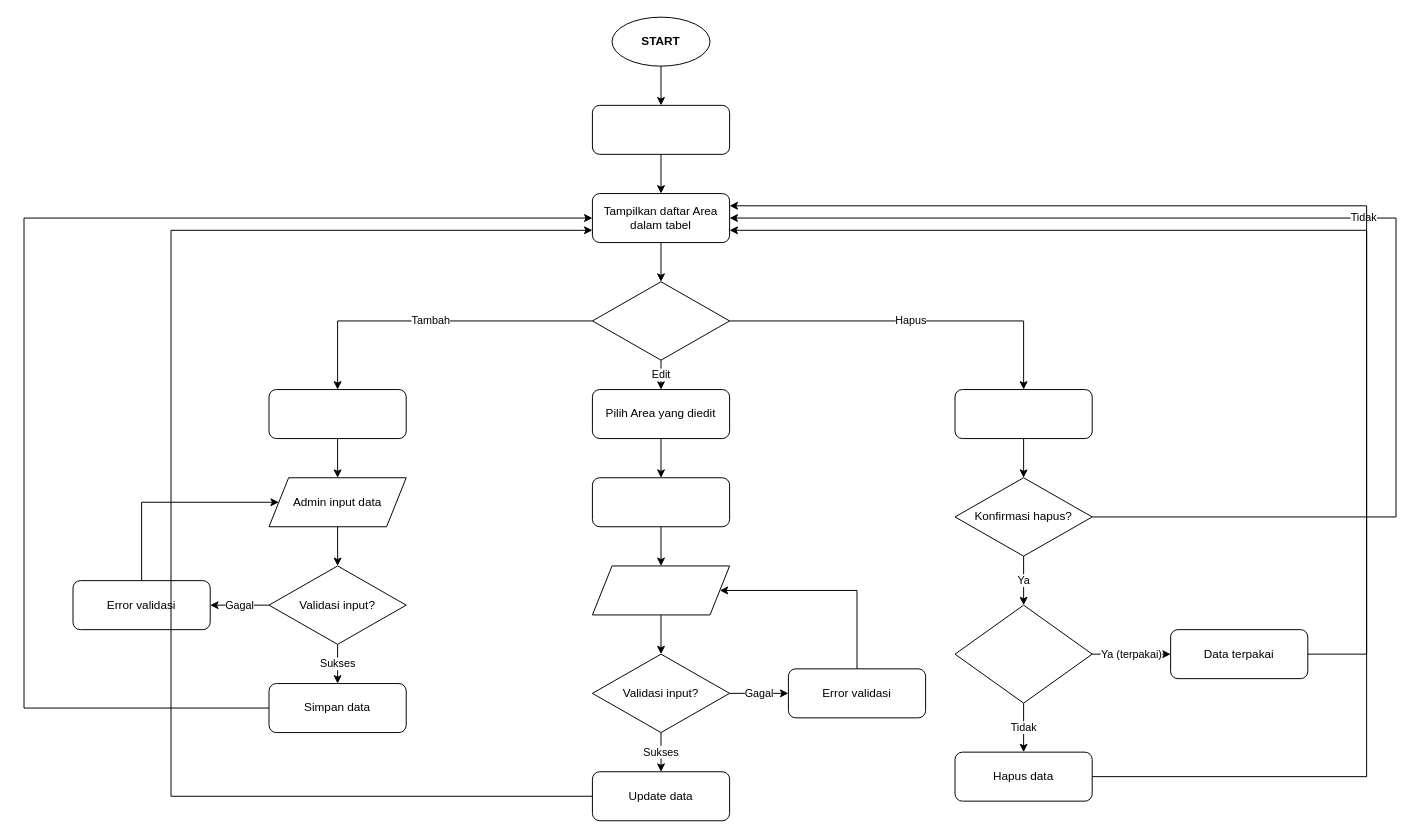
The diagram is 1421 pixels wide and 838 high, and some of its shapes have lost their labels. Each missing label, with the centre of its shape:
"Admin masuk menu Area Parkir" belongs at (x=660, y=129).
"Admin mengubah data" belongs at (x=660, y=590).
"Admin pilih aksi?" belongs at (x=660, y=320).
"Cek penggunaan <br>di transaksi aktif?" belongs at (x=1023, y=653).
"Pilih Area yang dihapus" belongs at (x=1023, y=414).
"Tampilkan form dengan data existing" belongs at (x=660, y=502).
"Tampilkan form input Area baru" belongs at (x=337, y=414).
